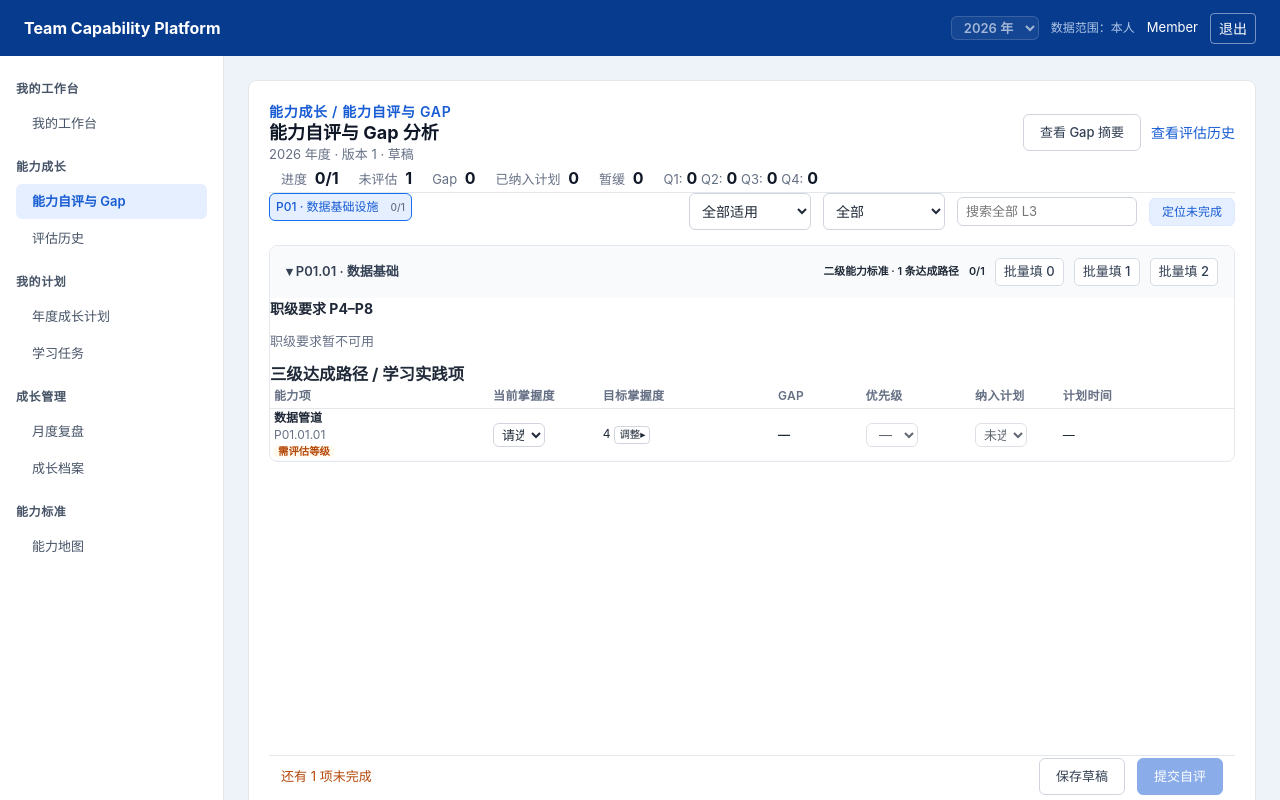
Test: AssessmentGapPage › replaces the Gap summary after L2 batch fill
Expected: the heading "能力自评与 Gap 分析" is shown, [269,122,451,144]
Click the button "批量填 1" at point(1107, 272), box [1074,258,1140,286]
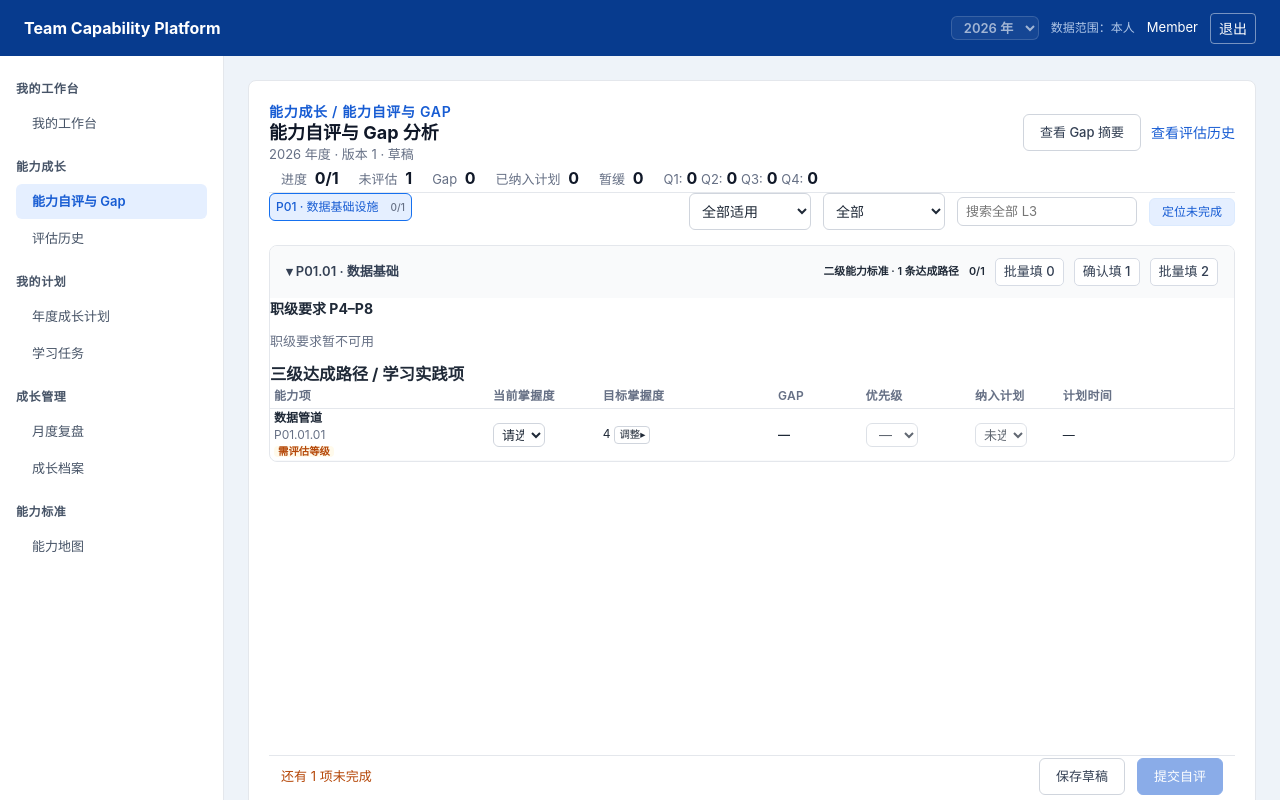
Click the button "确认填 1" at point(1107, 272), box [1074,258,1140,286]
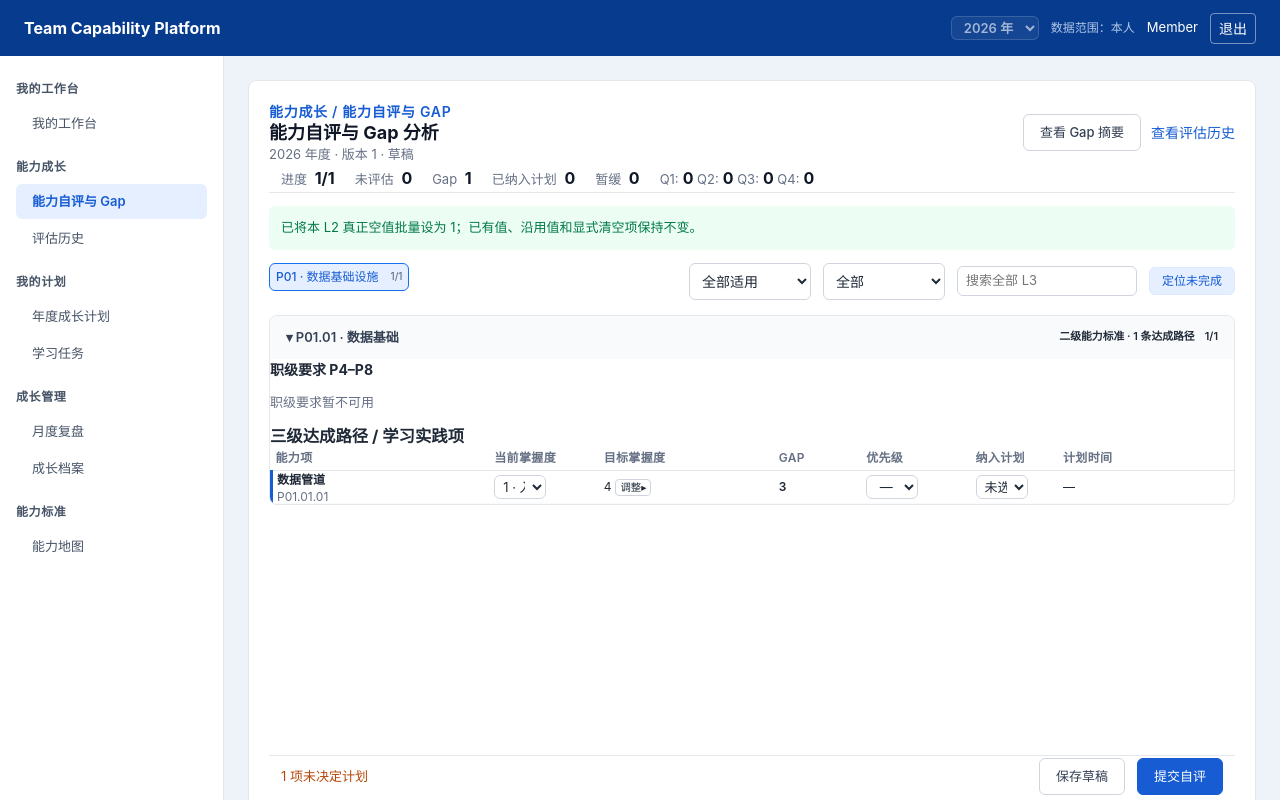
Expected: the element named "评估摘要" shows "Gap 1", [269,164,1235,193]
